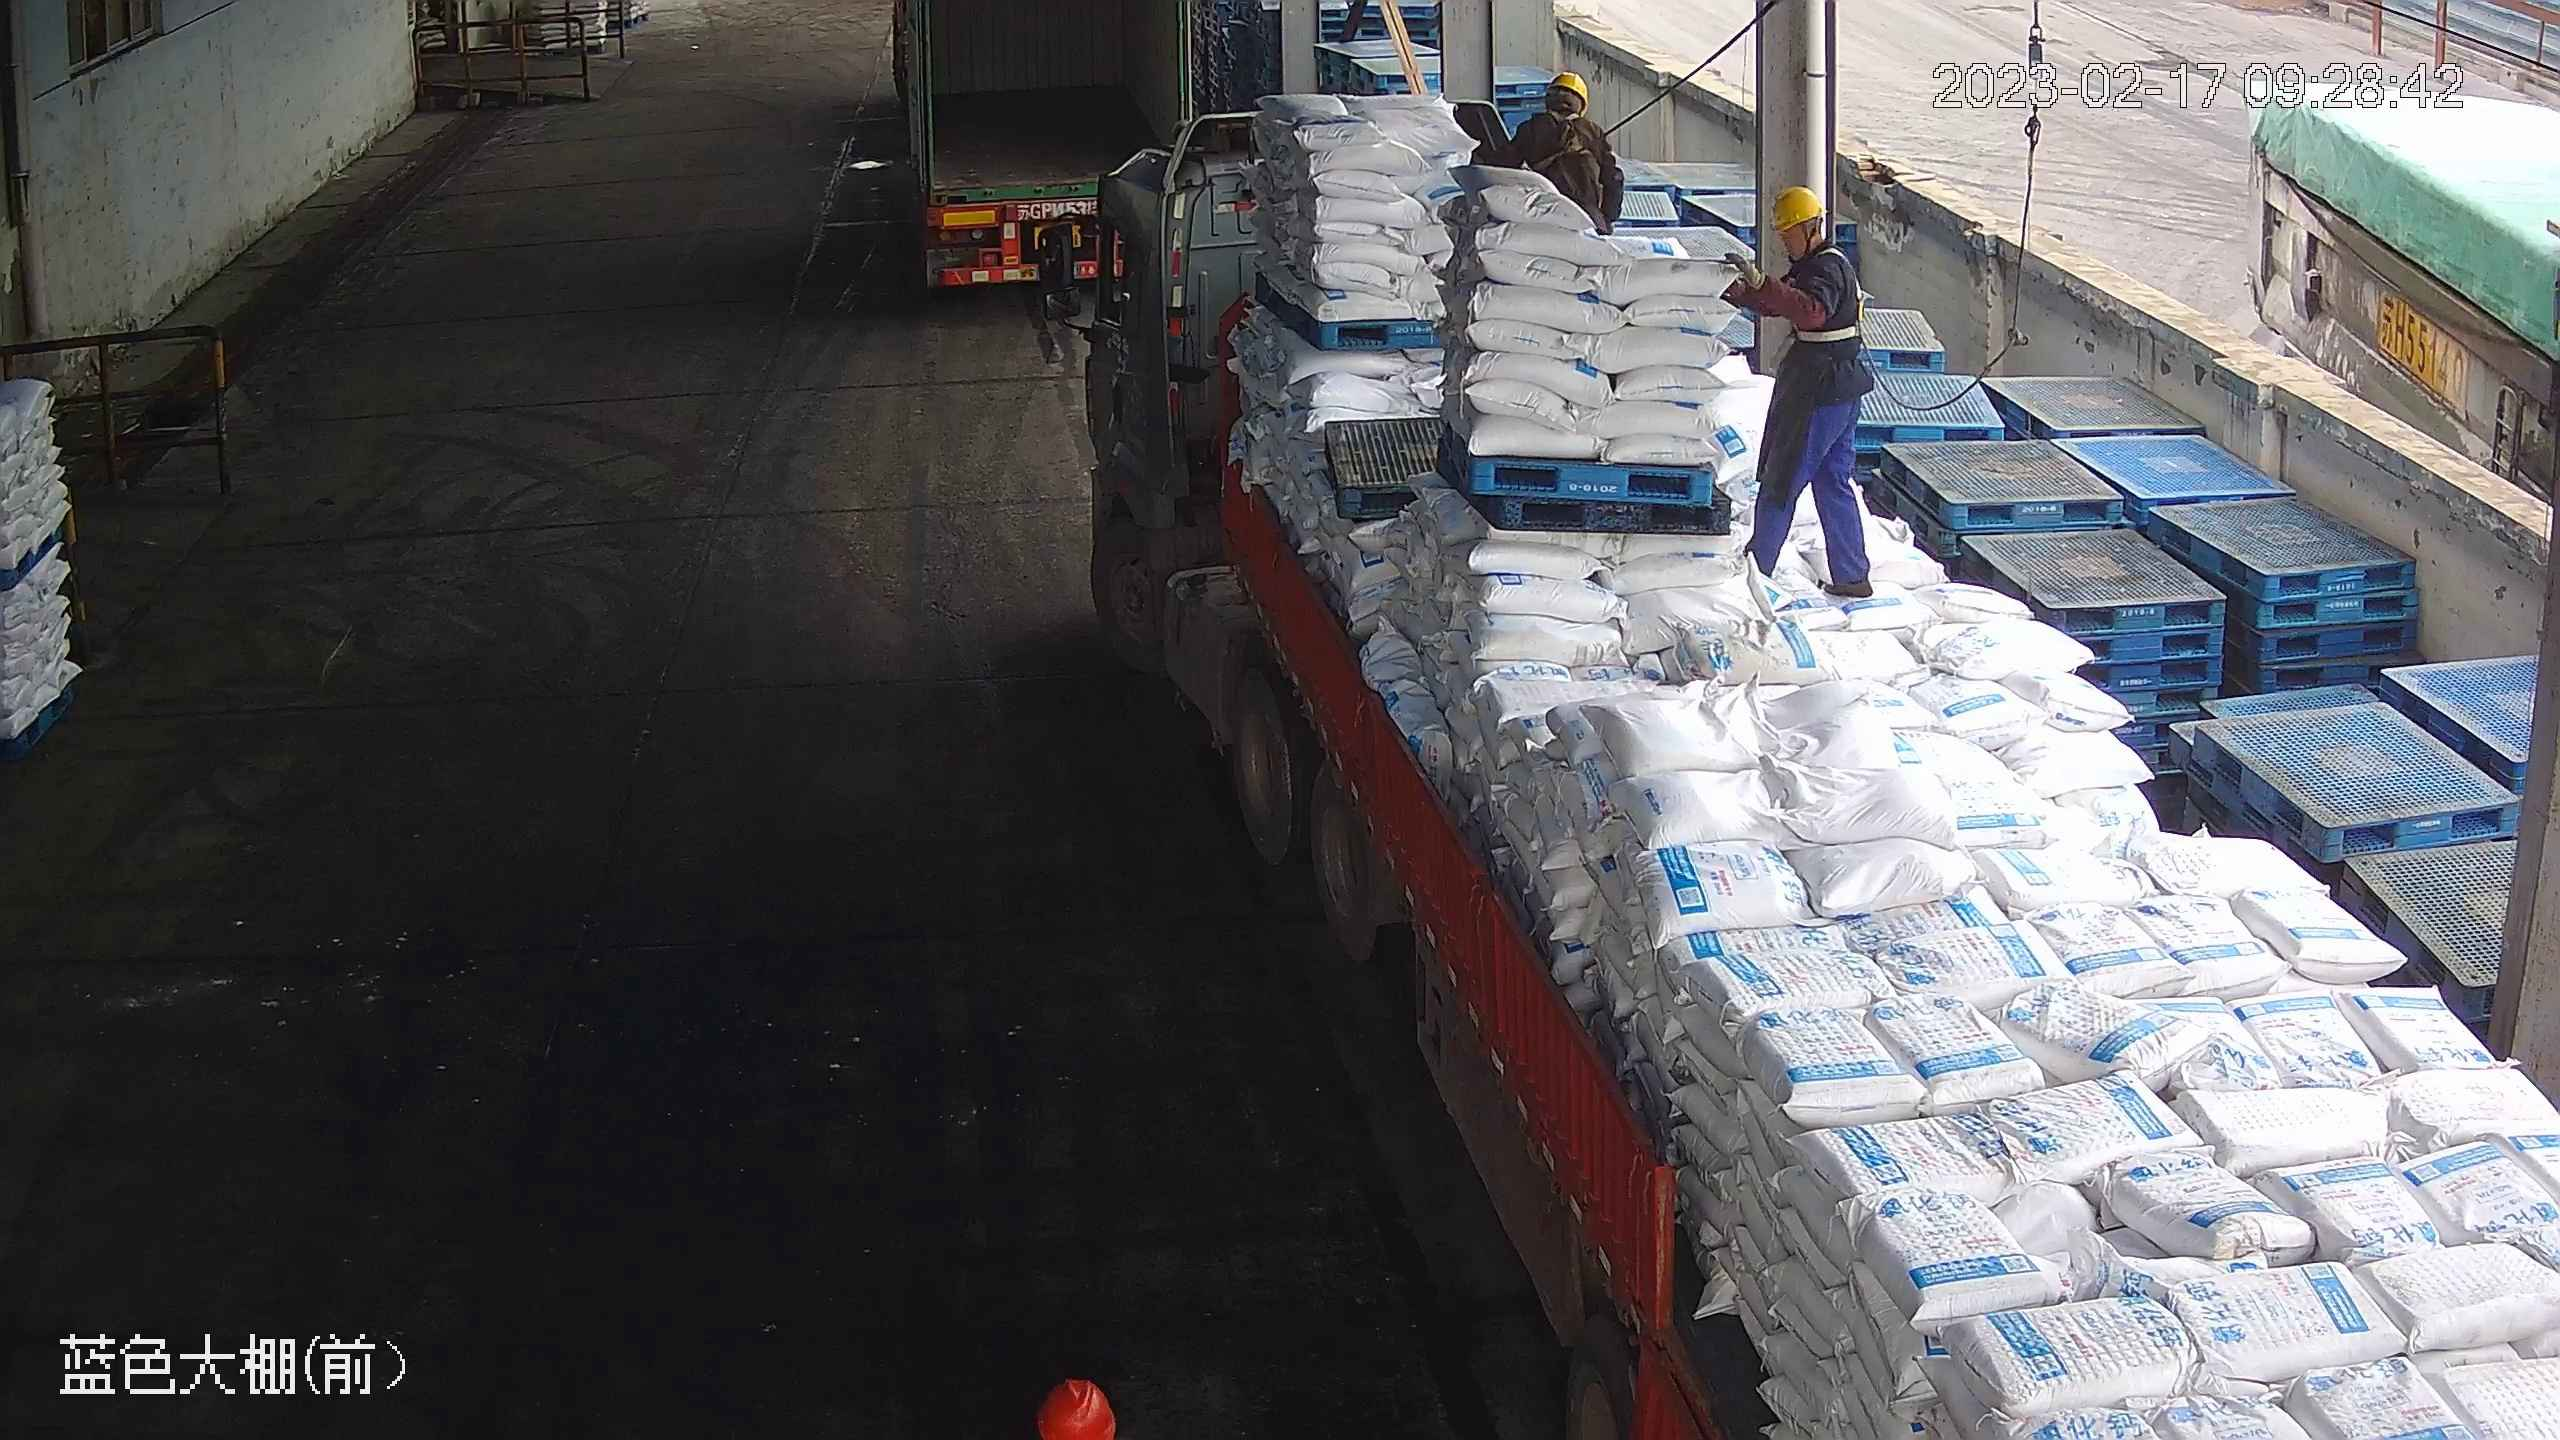belt: (1793, 239, 1878, 347), (1535, 111, 1613, 178)
head: (1725, 181, 1861, 332), (1503, 69, 1620, 186)
helmet: (1035, 1374, 1118, 1440), (1767, 186, 1827, 232), (1549, 69, 1591, 115)
people: (1722, 183, 1876, 596)
truck: (1074, 91, 2560, 1440), (886, 1, 1206, 308)
